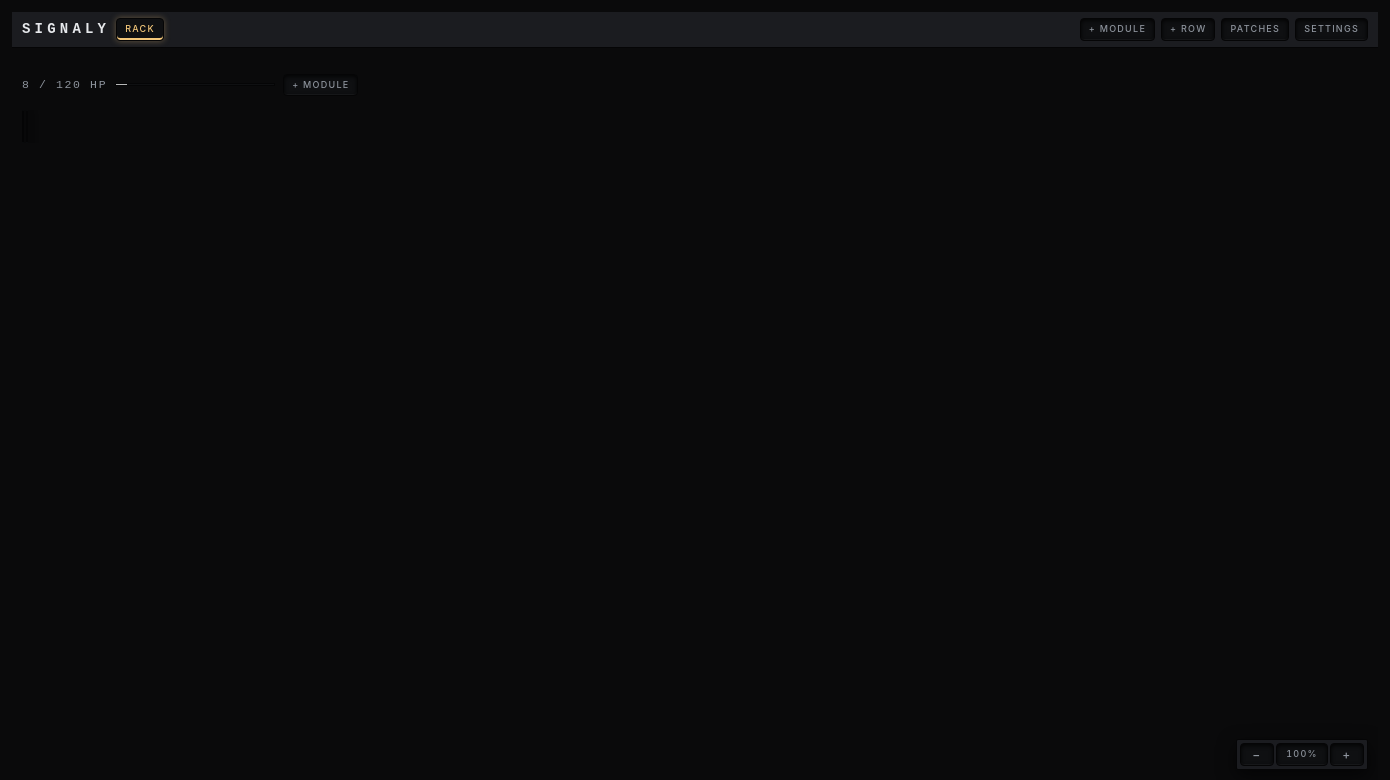
Test: RackWorkspace live region › announces an added row
Click the button "+ Row".
click(1188, 29)  # box x1=1161 y1=18 x2=1216 y2=41
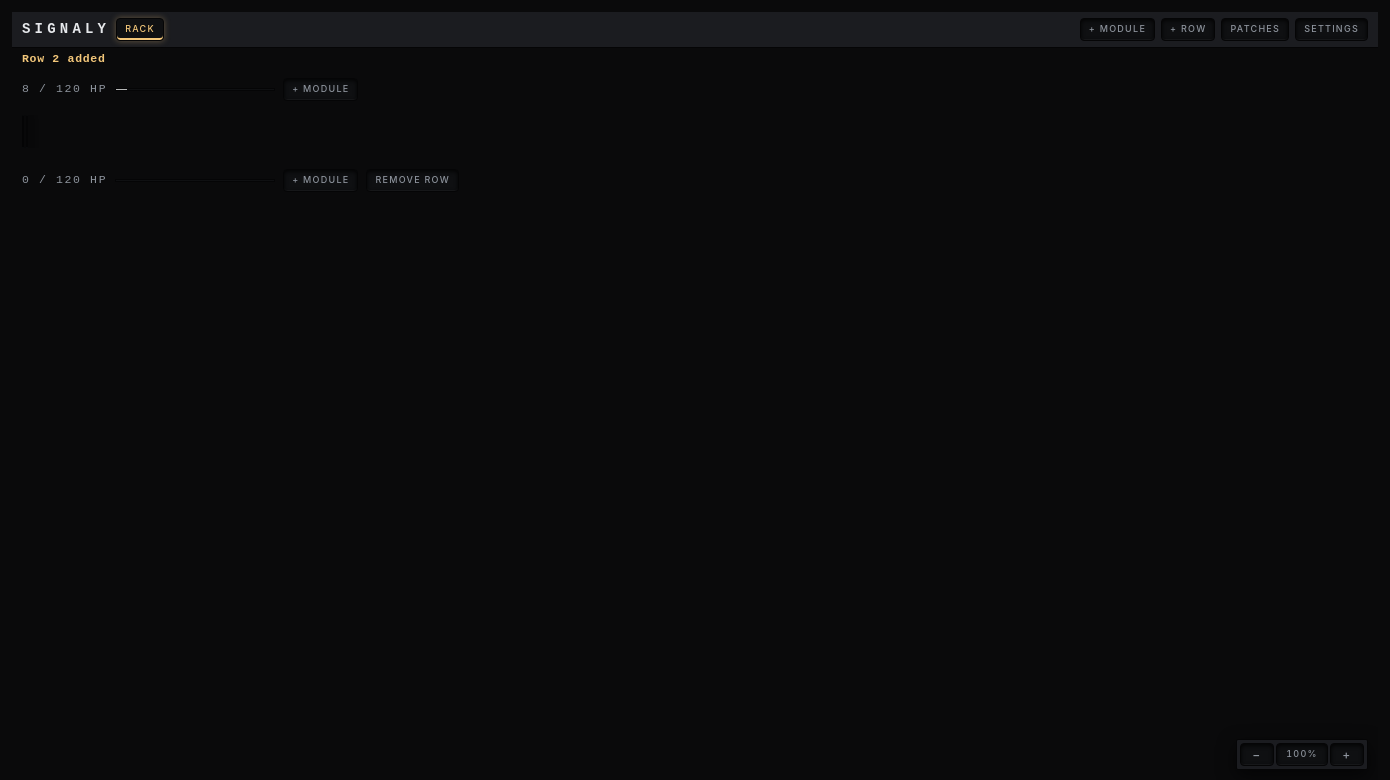
Expected: the message "Row 2 added" is shown, x1=12 y1=48 x2=1378 y2=70
